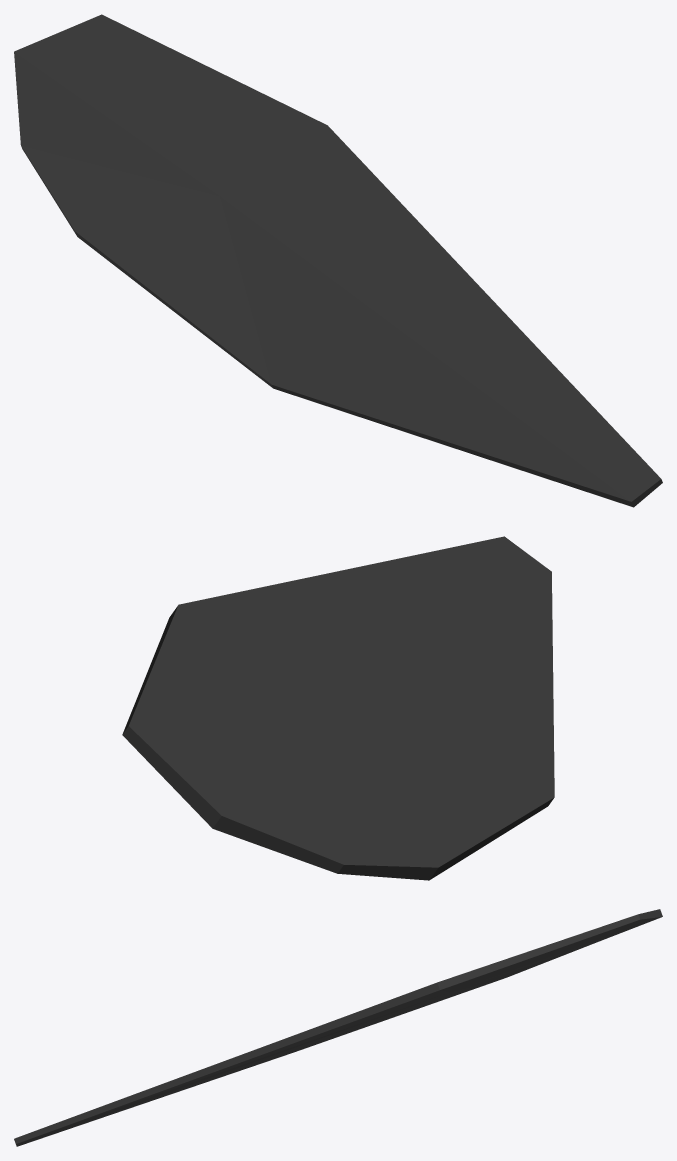
The model's file is wingR.gltf.
The picture shows the model from 3 angles, top to bottom: view 1: azimuth 30°, elevation 25°; view 2: azimuth 150°, elevation 25°; view 3: azimuth 270°, elevation 25°; orthographic projection. The views are drawn at different scales.
Parts seen in each view (by area): view 1: wingR; view 2: wingR; view 3: wingR.
Part boxes in pixels (x1,y1,x2,y2): wingR: (14, 14, 662, 507); wingR: (122, 536, 554, 880); wingR: (14, 909, 662, 1146).
Size of the model in its own units: 0.9829 by 0.7986 by 2.58.
Materials: 1 (1 with a texture image).
